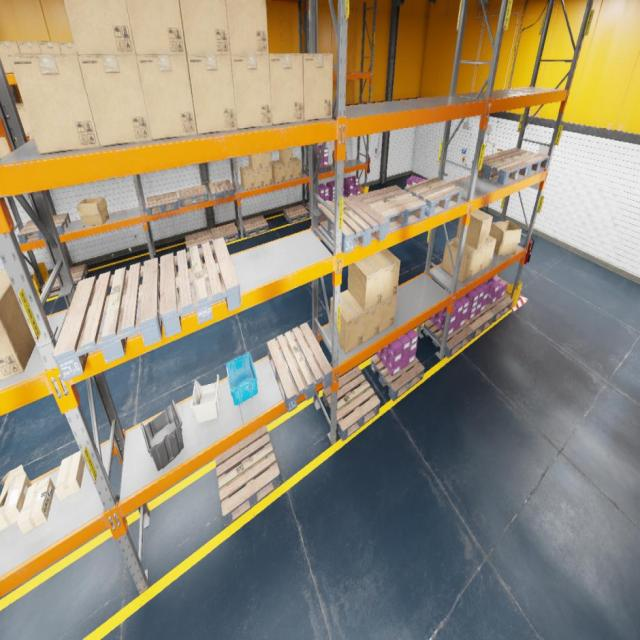box: (8, 54, 100, 154), (77, 55, 152, 147), (137, 55, 197, 140), (186, 54, 237, 135), (64, 0, 136, 54), (0, 269, 35, 380), (126, 0, 186, 54), (231, 54, 272, 130), (179, 0, 230, 54), (269, 53, 304, 125), (226, 0, 269, 54), (330, 290, 365, 353), (18, 476, 55, 534), (0, 464, 32, 530), (302, 54, 333, 121), (348, 255, 385, 311), (348, 290, 381, 343), (371, 248, 400, 302), (442, 237, 476, 282), (456, 209, 493, 249), (54, 452, 84, 501), (457, 237, 487, 276), (489, 221, 522, 255), (77, 197, 110, 226), (379, 294, 397, 333), (0, 40, 20, 73), (16, 103, 33, 134), (482, 236, 496, 270), (240, 166, 254, 190), (17, 41, 41, 53), (272, 160, 284, 182), (280, 160, 293, 180), (251, 168, 264, 188), (332, 151, 347, 168), (38, 42, 61, 52), (249, 153, 262, 170), (279, 148, 292, 163), (0, 138, 9, 158), (263, 167, 272, 186), (262, 151, 272, 168), (59, 42, 76, 52), (293, 158, 301, 178), (3, 137, 11, 153), (26, 133, 34, 139)
pallets: (52, 258, 162, 381), (160, 238, 241, 337), (215, 425, 280, 527), (267, 322, 332, 412), (323, 366, 380, 441), (318, 195, 387, 253), (357, 185, 426, 232), (371, 354, 425, 401), (405, 177, 463, 217), (424, 319, 473, 358), (470, 154, 529, 185), (17, 212, 71, 244), (41, 264, 88, 298), (496, 148, 550, 176), (465, 308, 494, 339), (146, 191, 178, 216), (486, 295, 512, 323), (178, 185, 208, 207), (185, 230, 213, 252), (242, 215, 268, 237), (211, 223, 239, 243), (208, 180, 234, 201), (284, 204, 308, 223), (306, 162, 331, 174), (344, 194, 361, 198), (306, 202, 309, 210)
